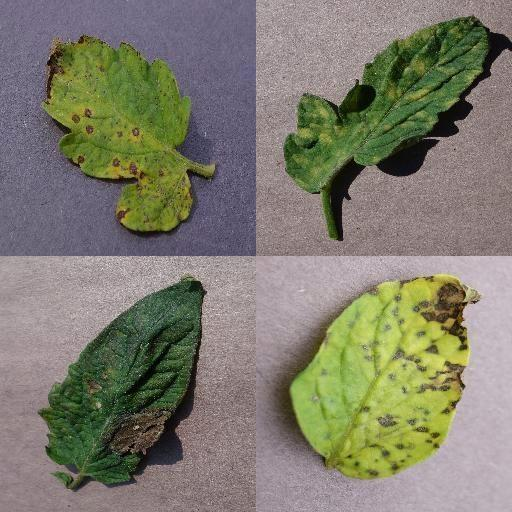Late Blight: (38, 275, 206, 487)
Leaf Mold: (284, 15, 489, 193)
Septoria: (290, 275, 482, 481), (41, 34, 195, 234)
